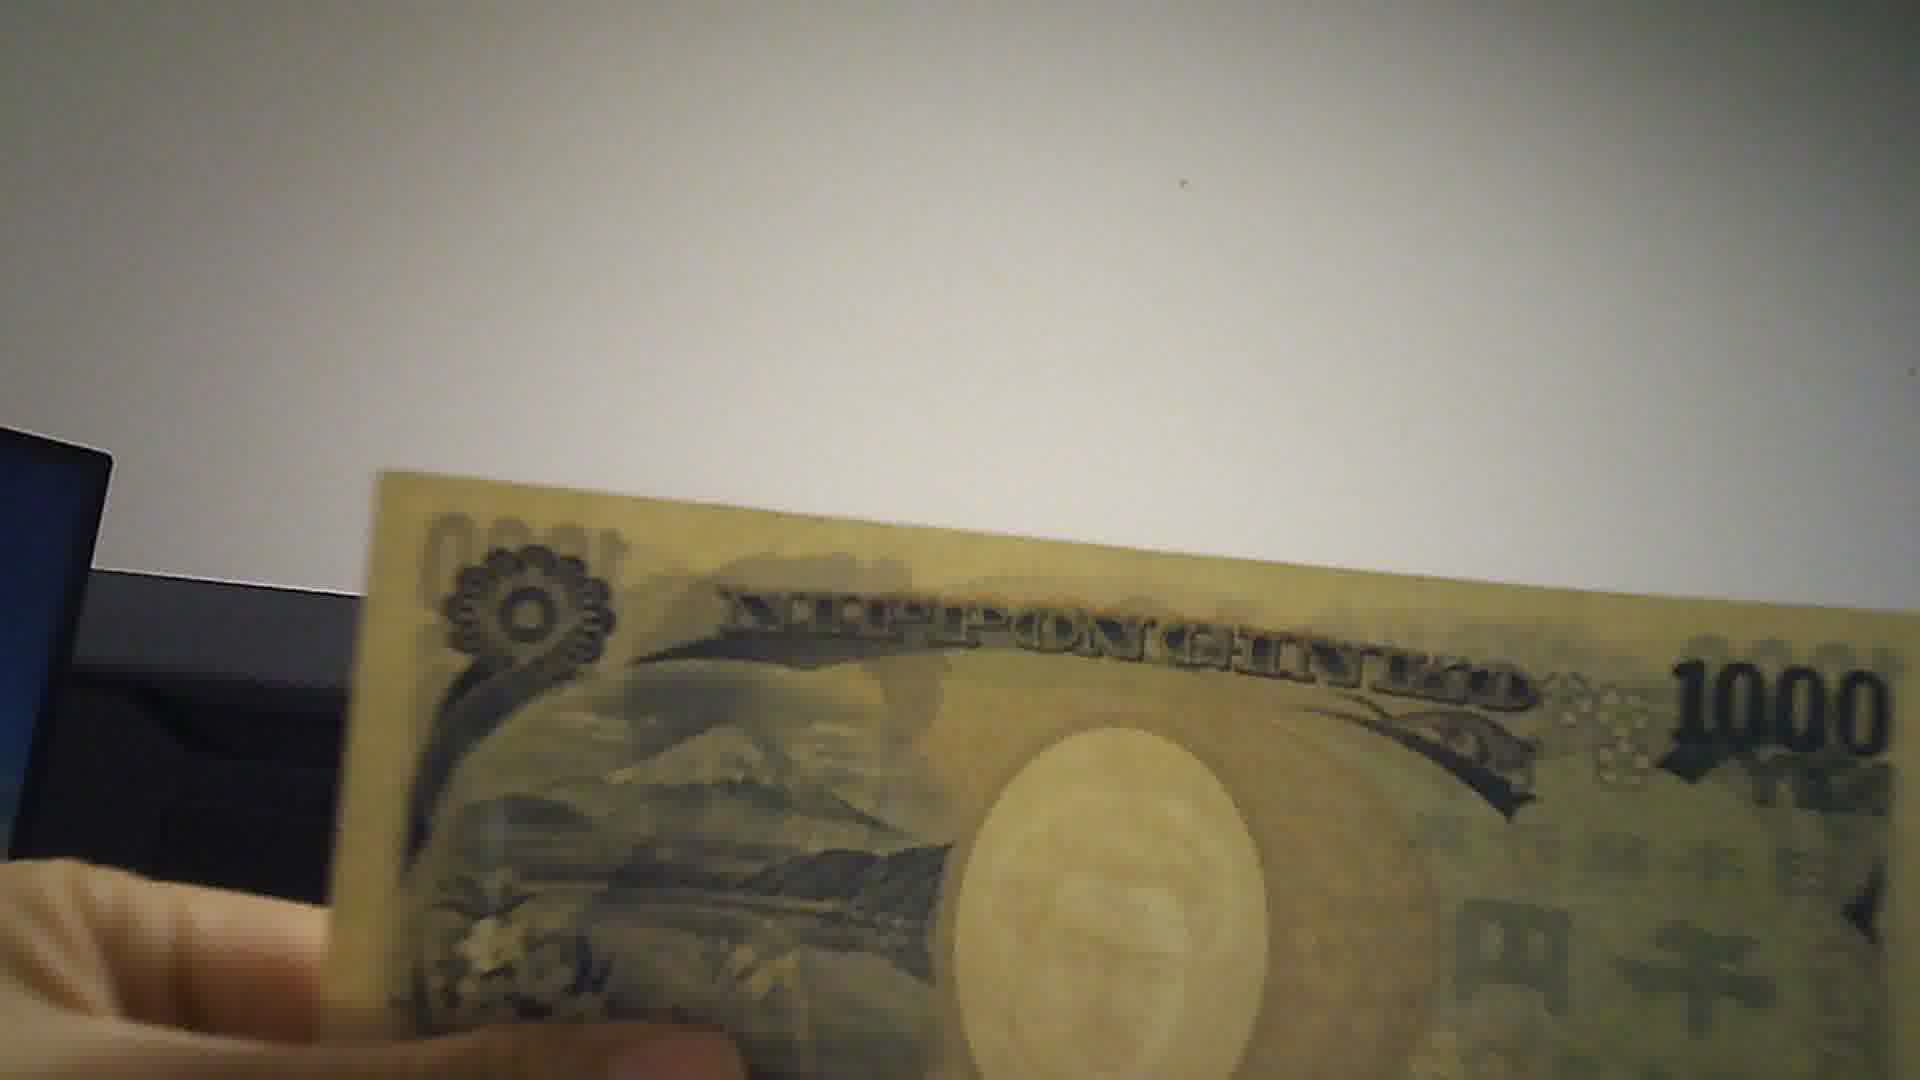1,000 Yen: (332, 464, 1887, 1079)
